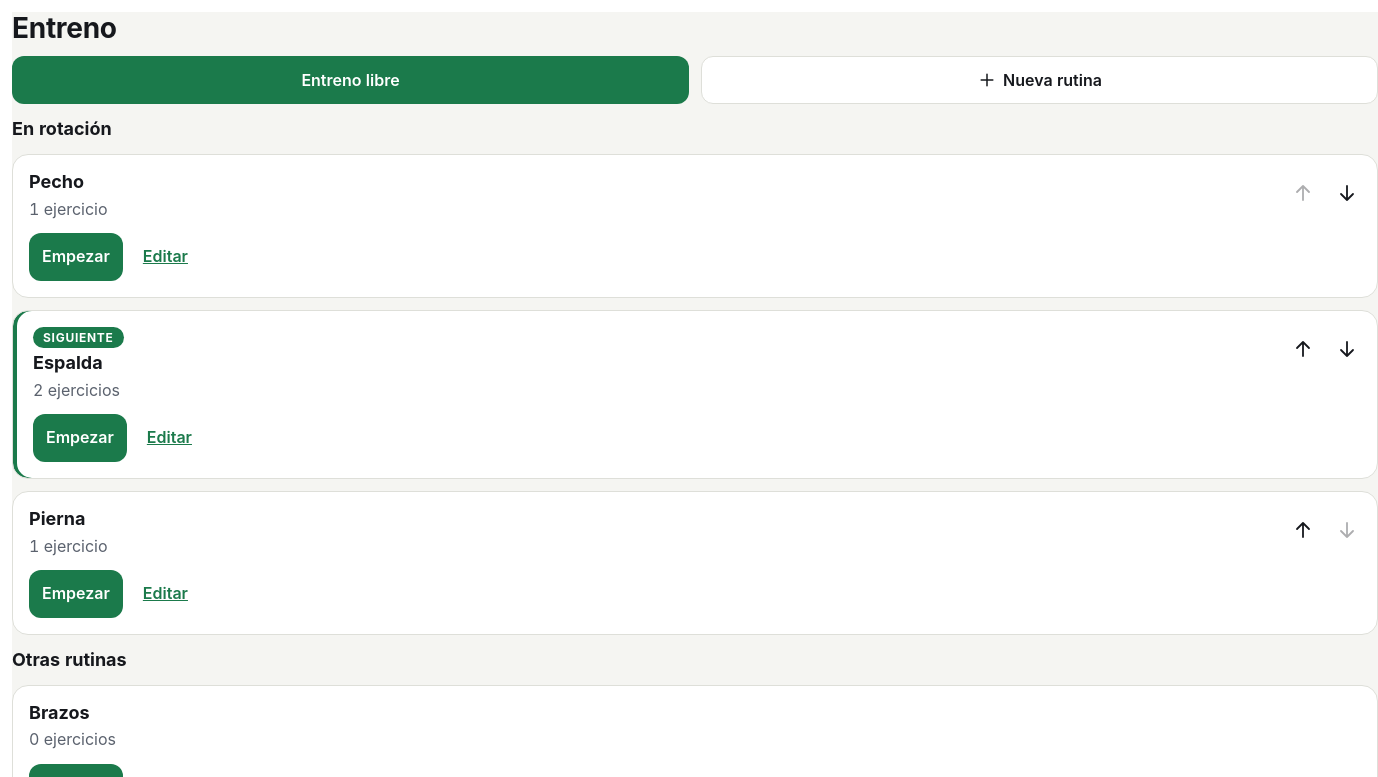
Test: Entreno: reordenar la rotación › si Hoy falla tras reordenar, el orden se repinta y no queda una etiqueta desfasada
The image size is (1378, 777).
Expected: the link "Entreno libre" is shown, [12, 56, 689, 104]
Click the button named "Subir Pierna": (1303, 530) [1281, 508, 1325, 552]
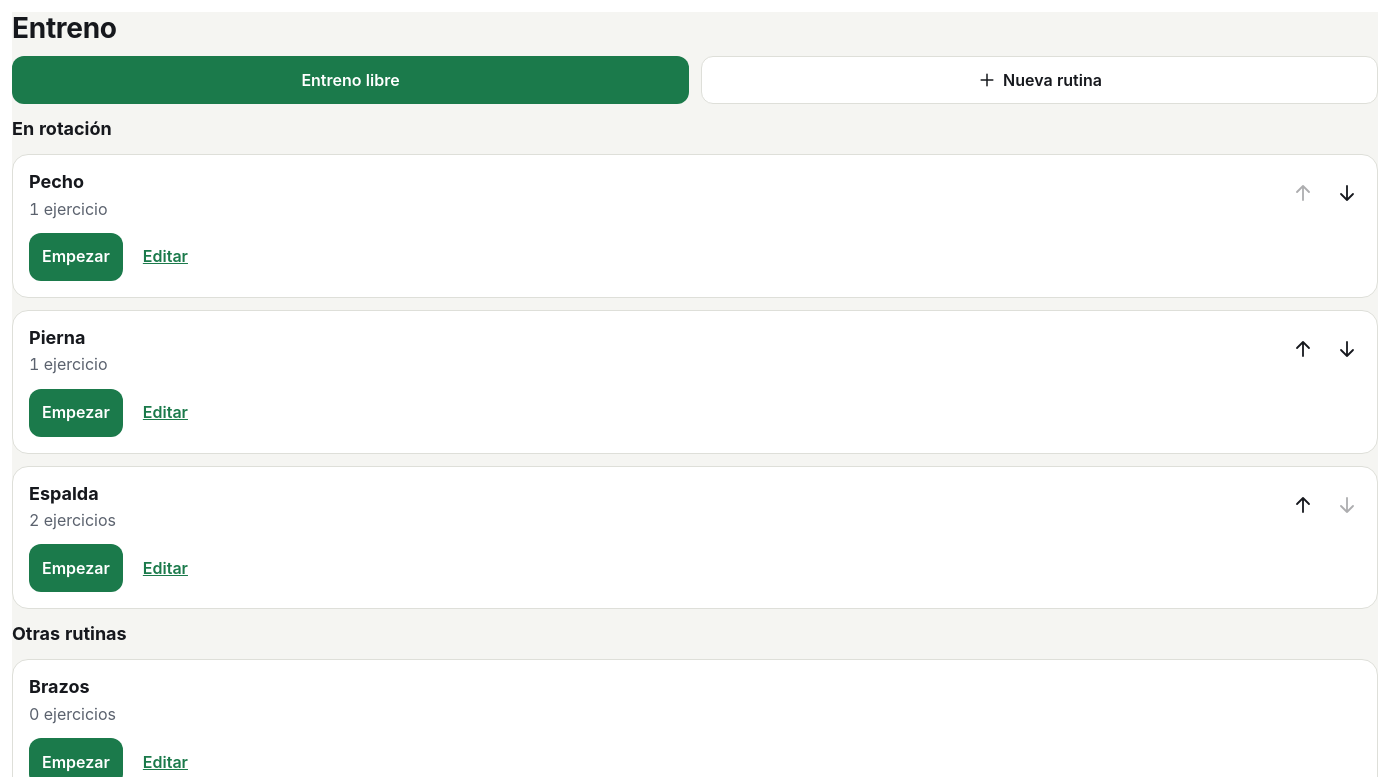
Now the text "SIGUIENTE" is gone
